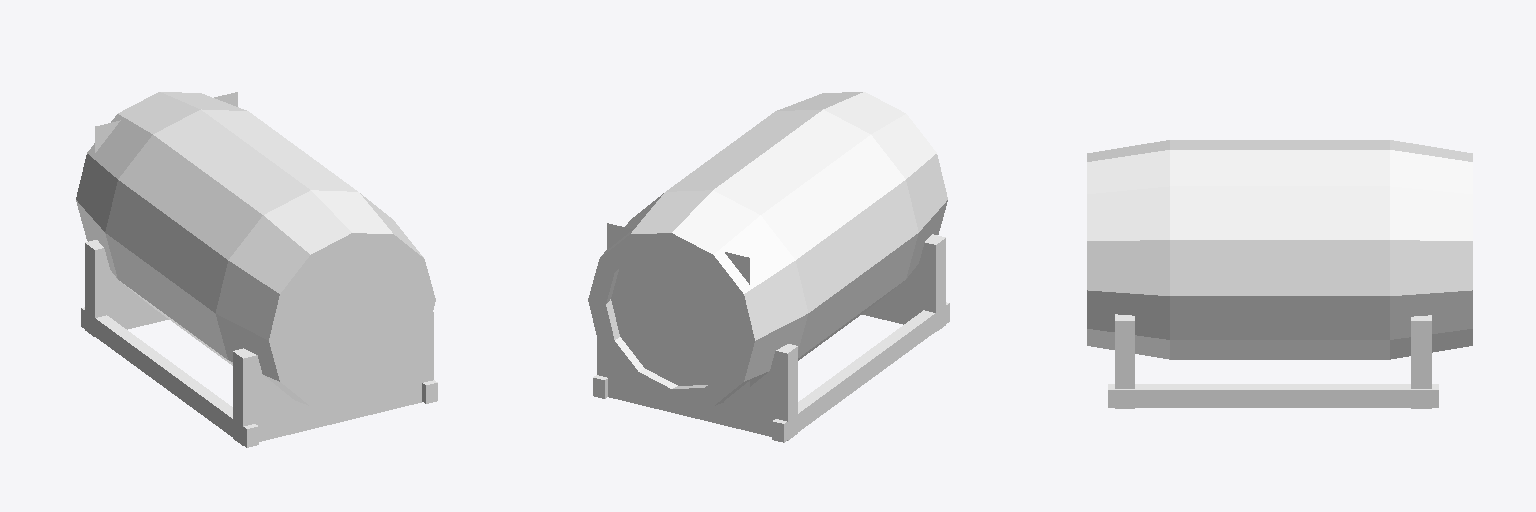
Rendered from tall_round_barrel_side.obj.
The picture shows the model from 3 angles: view 1: azimuth 30°, elevation 25°; view 2: azimuth 150°, elevation 25°; view 3: azimuth 270°, elevation 25°; orthographic projection.
Visible parts, largest first — view 1: barrel, stand2, cube, stand1, top; view 2: barrel, top, stand1, cube, stand2; view 3: barrel, cube.000, stand1, stand2.
Boxes of the visible parts, <box> form: barrel: <box>76,92,435,407</box>; stand2: <box>233,312,433,445</box>; cube: <box>81,307,258,447</box>; stand1: <box>85,240,168,336</box>; top: <box>95,92,237,152</box>; barrel: <box>588,92,947,407</box>; top: <box>607,223,749,407</box>; stand1: <box>597,339,797,440</box>; cube: <box>772,302,949,442</box>; stand2: <box>862,234,945,331</box>; barrel: <box>1087,140,1472,359</box>; cube.000: <box>1108,384,1438,407</box>; stand1: <box>1411,315,1431,408</box>; stand2: <box>1115,314,1134,408</box>.
Bounding box in the file's own units: 1 × 1.06 × 1.75.